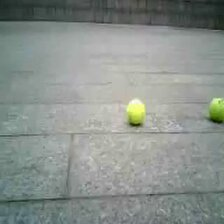tennis: (126, 98, 146, 123), (209, 97, 224, 123)
